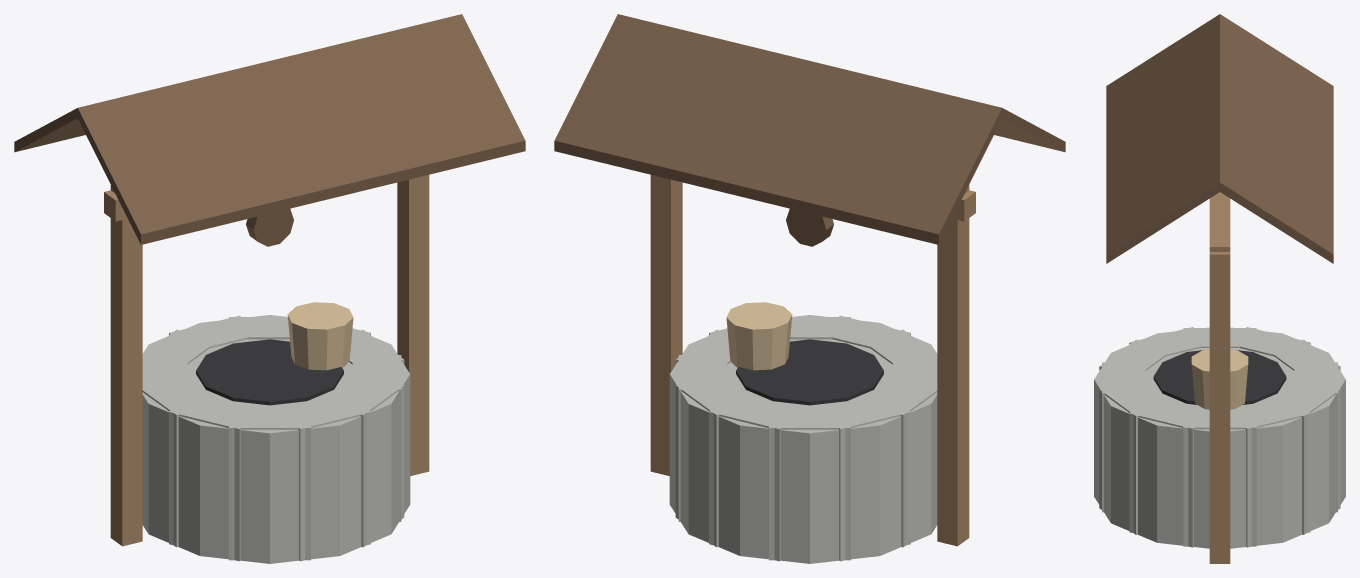
The model's file is ido.glb.
3 renders of one model, left to right at view 1: azimuth 30°, elevation 25°; view 2: azimuth 150°, elevation 25°; view 3: azimuth 270°, elevation 25°, orthographic. The views are drawn at different scales.
Visible parts, largest first — view 1: ido; view 2: ido; view 3: ido.
Part boxes in pixels (x1,y1,x2,y2): ido: (14, 14, 525, 563); ido: (554, 14, 1065, 563); ido: (1094, 14, 1345, 563).
Bounding box in the file's own units: 2.28 × 2.52 × 1.44.
